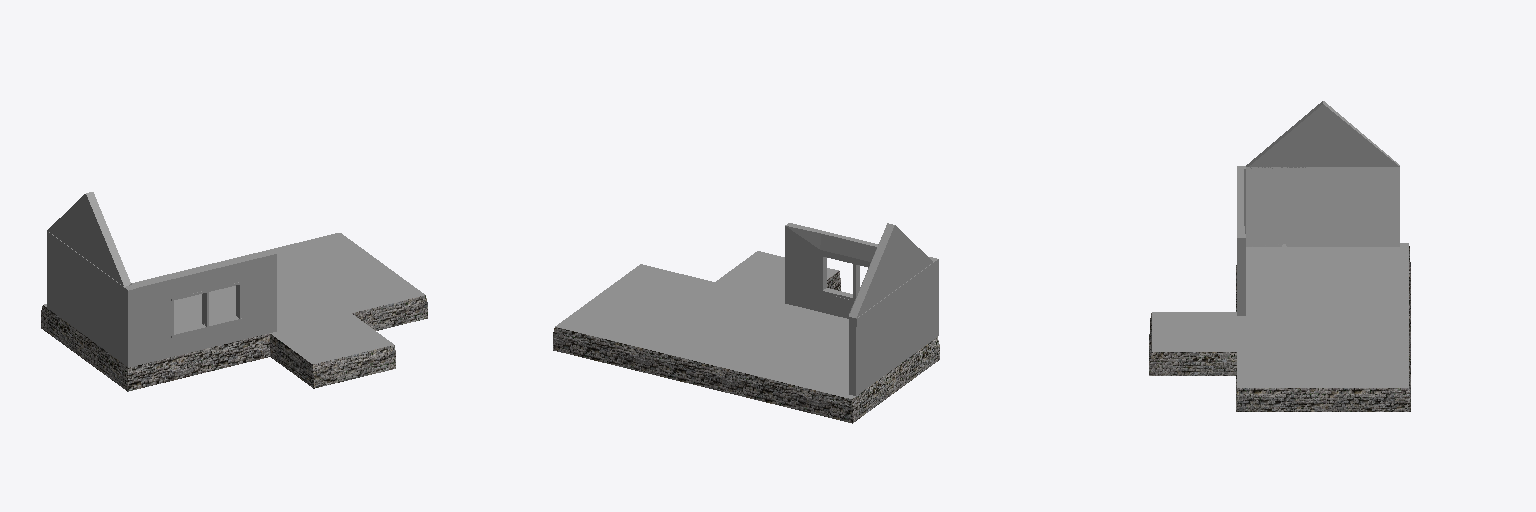
3 views of the same model, side by side, from view 1: azimuth 30°, elevation 25°; view 2: azimuth 150°, elevation 25°; view 3: azimuth 270°, elevation 25° (orthographic).
Parts seen in each view (by area): view 1: Plane, Cube.003, Cube.002, Cube.015, Cube.026; view 2: Plane, Cube.003, Cube.002, Cube.026; view 3: Plane, Cube.003, Cube.002.
Part boxes in pixels (bbox=[...]): Plane: bbox=[41, 233, 427, 391]; Cube.003: bbox=[47, 192, 131, 363]; Cube.002: bbox=[134, 251, 276, 365]; Cube.015: bbox=[124, 285, 136, 367]; Cube.026: bbox=[47, 231, 123, 294]; Plane: bbox=[553, 251, 939, 423]; Cube.003: bbox=[849, 223, 933, 395]; Cube.002: bbox=[785, 223, 929, 318]; Cube.026: bbox=[856, 262, 933, 326]; Plane: bbox=[1149, 243, 1410, 411]; Cube.003: bbox=[1246, 101, 1399, 246]; Cube.002: bbox=[1237, 169, 1245, 315].
Bounding box in the file's own units: 40.38 × 21.4 × 30.44.
Materials: 10 (1 with a texture image).